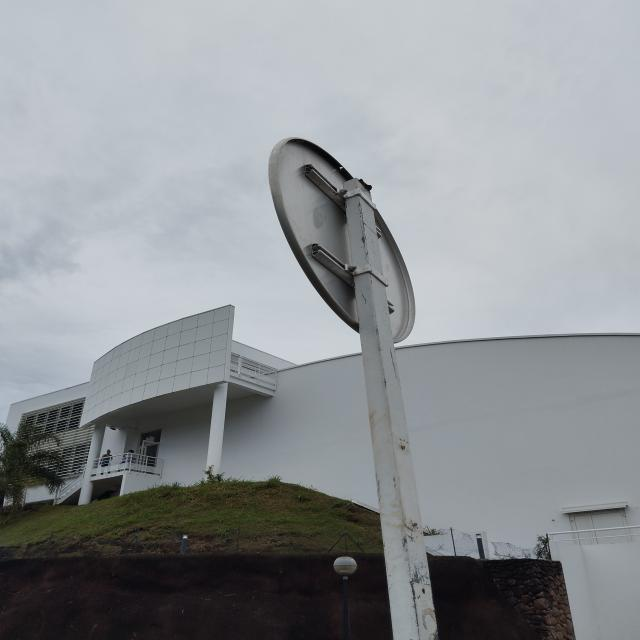Panneau: (273, 129, 417, 349)
